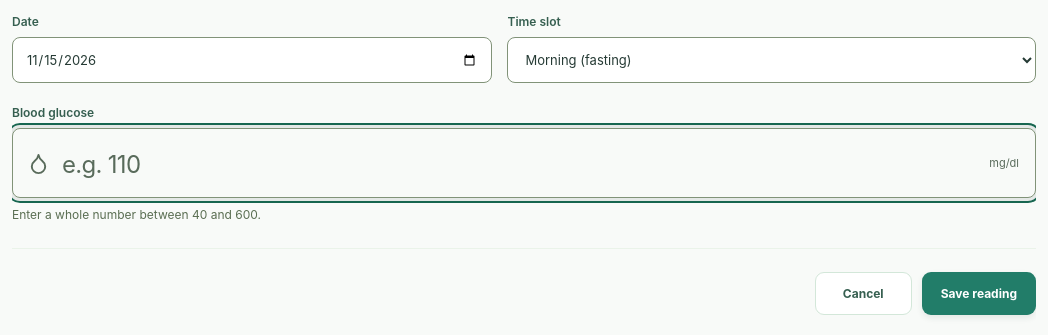
Test: Reading form › prevents duplicate submissions and cancellation while saving
In the number field labelled "Blood glucose": (524, 163) [12,128,1036,198], type "110"
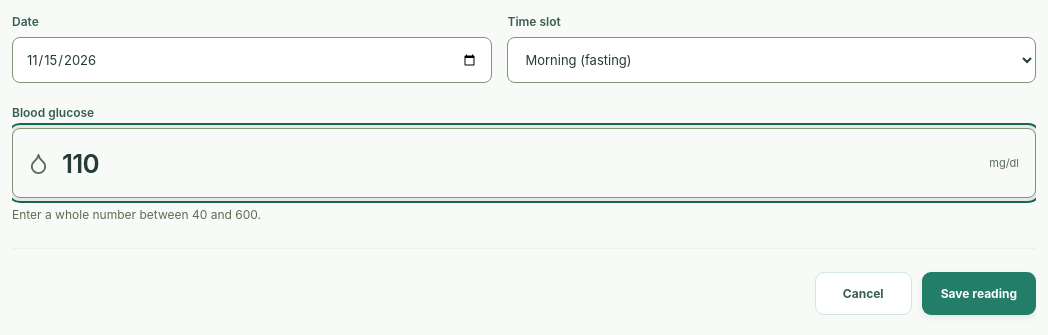
Click the button "Save reading": click(979, 294) [922,272,1036,315]
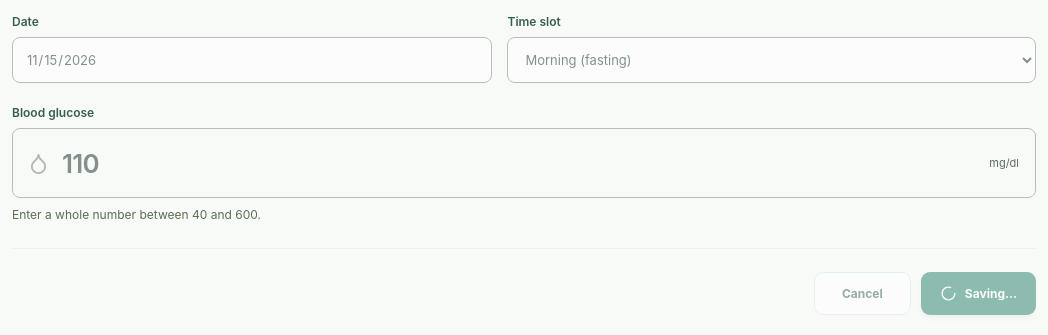
Check: the button "Saving…" is disabled
Check: the button "Cancel" is disabled, box [814,272,911,315]
Check: the number field labelled "Blood glucose" is disabled, box [12,128,1036,198]
Click the button "Saving…": click(978, 294) [921,272,1036,315]
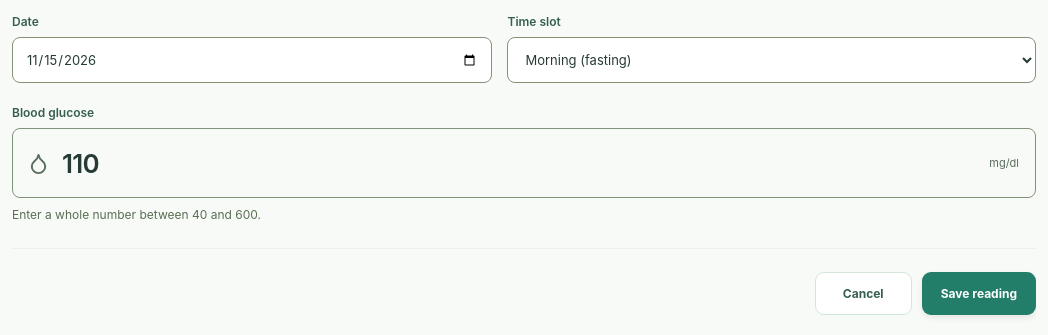
Check: the button "Save reading" is enabled, box [922,272,1036,315]
